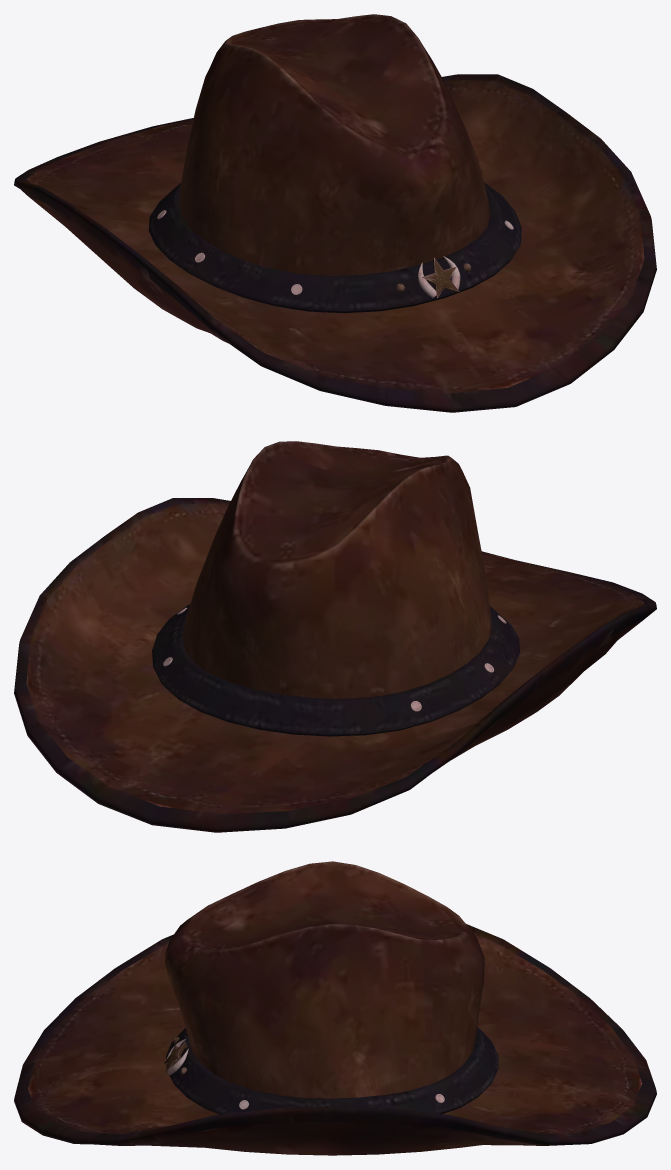
File: Hat3-1.glb
3 renders of one model, top to bottom at view 1: azimuth 30°, elevation 25°; view 2: azimuth 150°, elevation 25°; view 3: azimuth 270°, elevation 25°, orthographic. The views are drawn at different scales.
Parts seen in each view (by area): view 1: Hat; view 2: Hat; view 3: Hat.
Boxes of the visible parts, x1,y1,x2,y2 form: Hat: (14,14,656,412); Hat: (14,441,656,832); Hat: (14,861,656,1155).
Size of the model in its own units: 0.9747 by 0.4713 by 1.31.
Materials: 1 (1 with a texture image).
